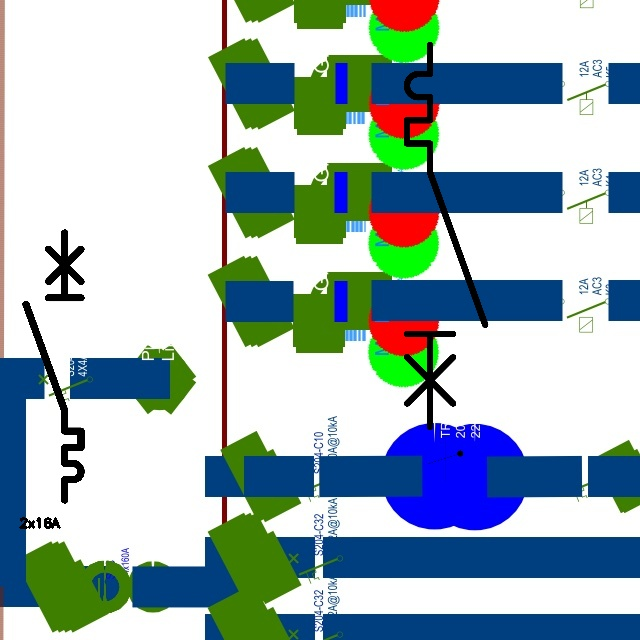interruptor_termomagnetico: (397, 35, 495, 436), (19, 226, 88, 507)
